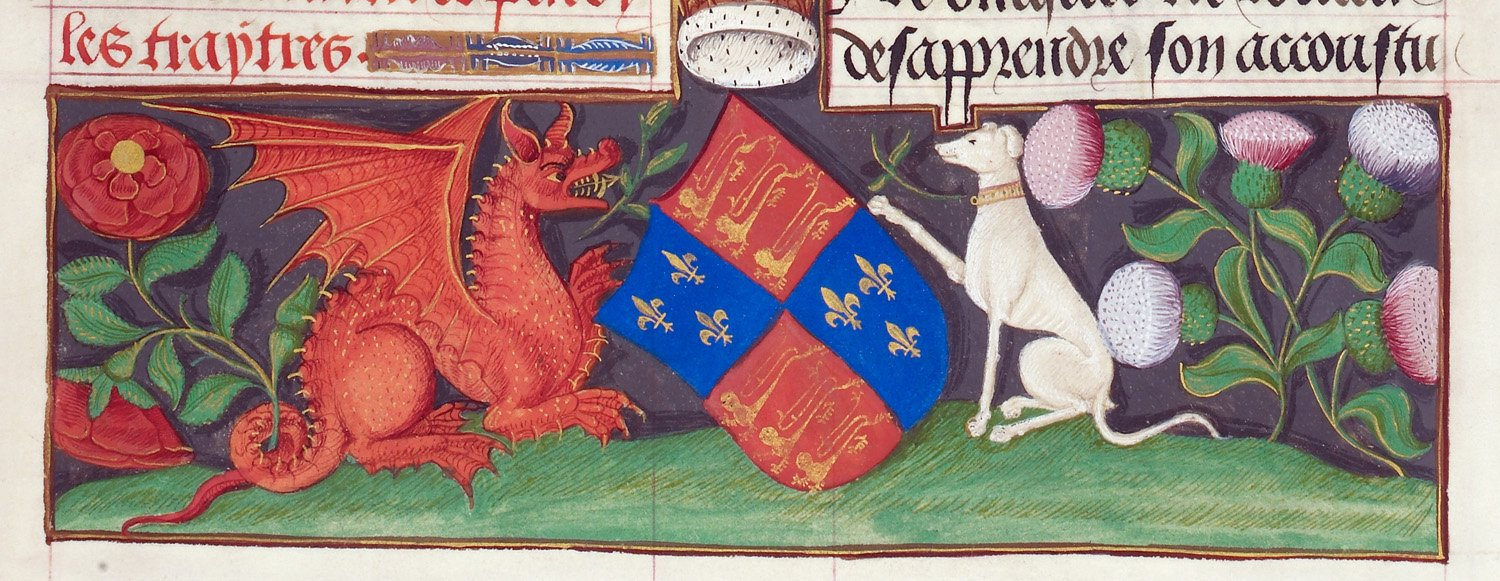dog: (876, 125, 1138, 451)
dragon: (136, 101, 641, 522)
